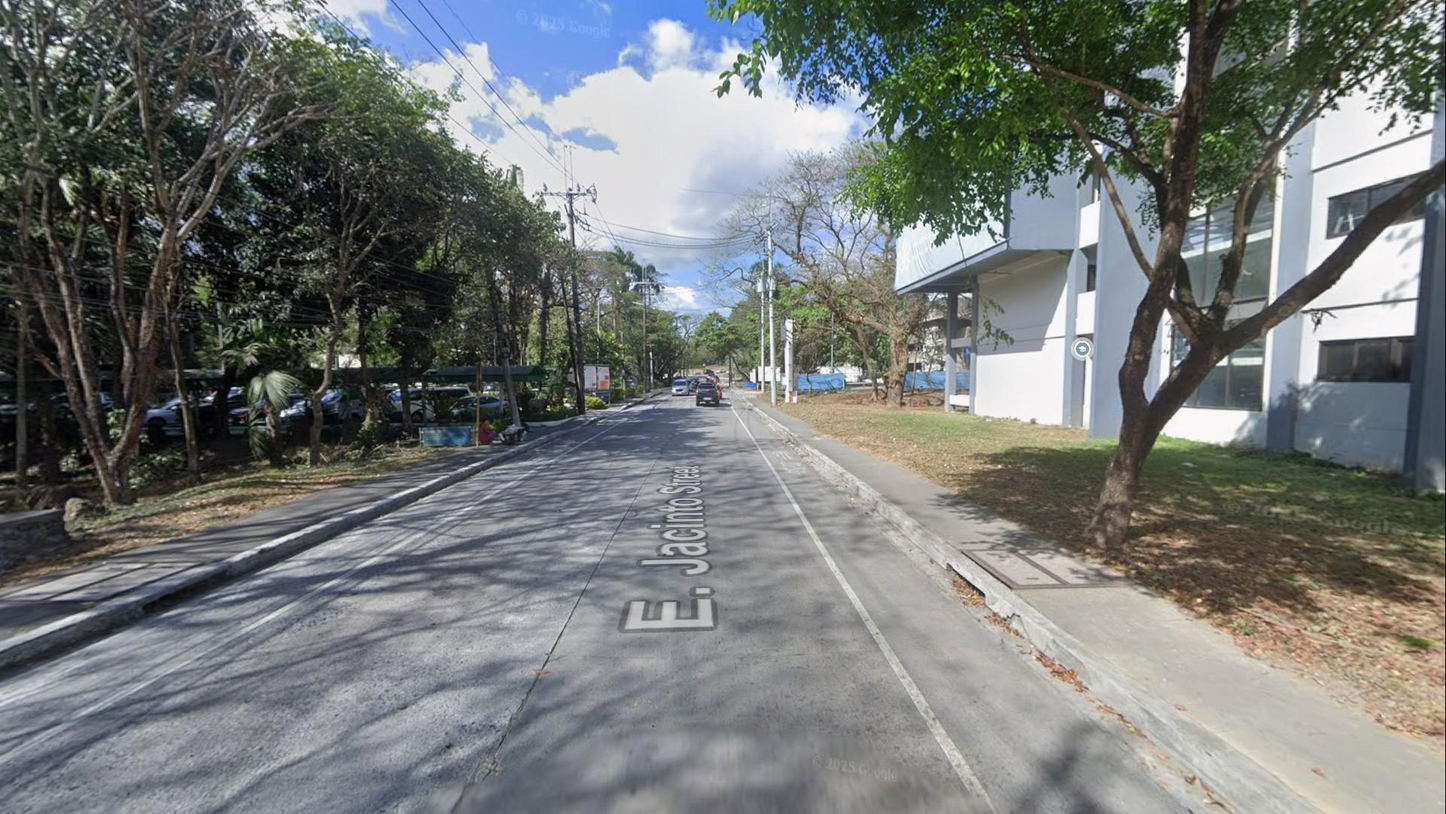pedestrian: (475, 414, 497, 446)
